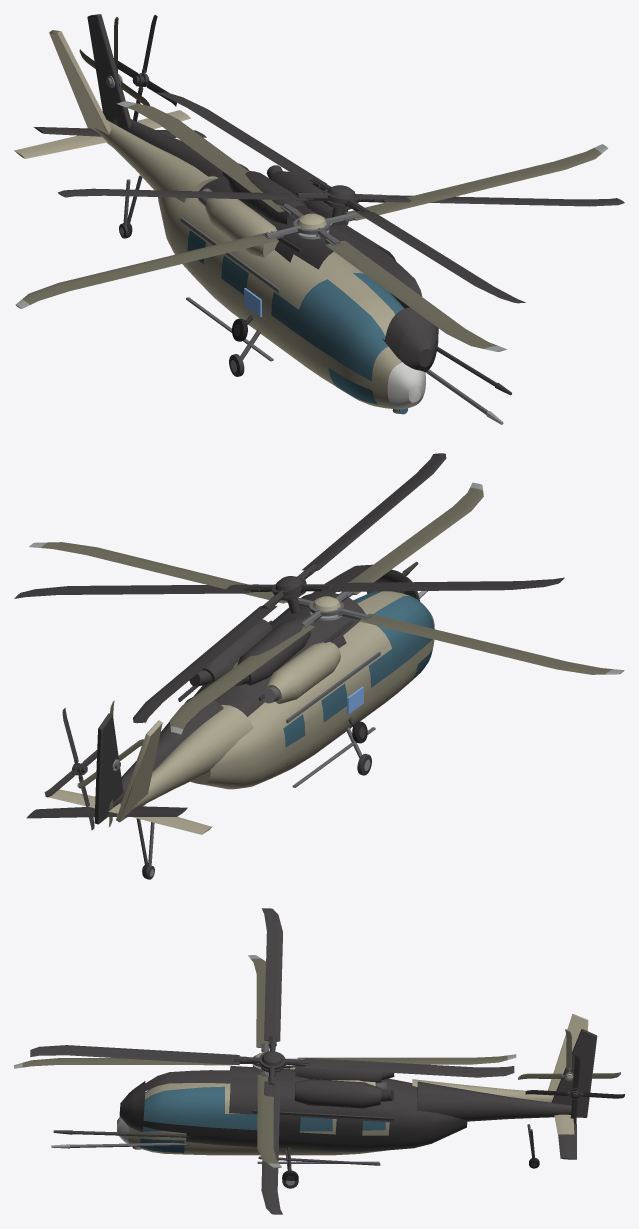
The model's file is helicopter__mh_60m_black_hawk.glb.
The picture shows the model from 3 angles, top to bottom: view 1: azimuth 30°, elevation 25°; view 2: azimuth 150°, elevation 25°; view 3: azimuth 270°, elevation 25°; orthographic projection. The views are drawn at different scales.
Parts seen in each view (by area): view 1: Fuselage_Mesh, Wreck, Rotor_Main_Mesh, Engines_Mesh, Landing_Gear_Mesh, Rotor_Tail_Mesh; view 2: Fuselage_Mesh, Wreck, Rotor_Main_Mesh, Engines_Mesh, Landing_Gear_Mesh; view 3: Wreck, Fuselage_Mesh, Rotor_Main_Mesh, Rotor_Tail_Mesh.
Boxes of the visible parts, x1,y1,x2,y2 form: Fuselage_Mesh: (14, 30, 503, 424); Wreck: (34, 14, 624, 395); Rotor_Main_Mesh: (15, 101, 608, 351); Engines_Mesh: (198, 188, 278, 257); Landing_Gear_Mesh: (119, 179, 260, 376); Rotor_Tail_Mesh: (79, 17, 149, 125); Fuselage_Mesh: (44, 591, 434, 834); Wreck: (14, 453, 564, 877); Rotor_Main_Mesh: (29, 482, 624, 734); Engines_Mesh: (232, 642, 340, 703); Landing_Gear_Mesh: (144, 727, 371, 879); Wreck: (30, 908, 624, 1214); Fuselage_Mesh: (51, 1014, 588, 1163); Rotor_Main_Mesh: (14, 955, 516, 1167); Rotor_Tail_Mesh: (518, 1029, 620, 1081).
Size of what is drawn, in the model's own units: 16.77 by 6.2 by 19.9.
